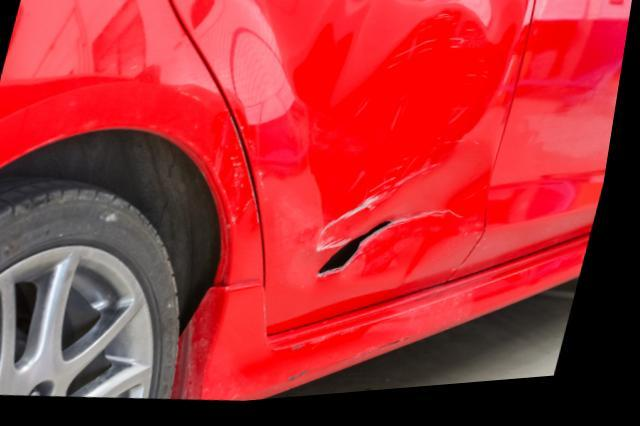crack: (326, 226, 400, 283)
dent: (319, 0, 530, 291)
scratch: (283, 320, 432, 389)
